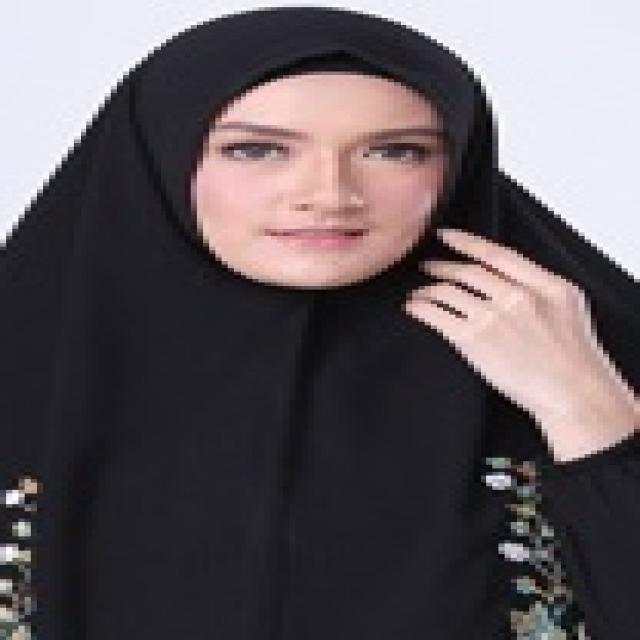head: (143, 19, 504, 304)
